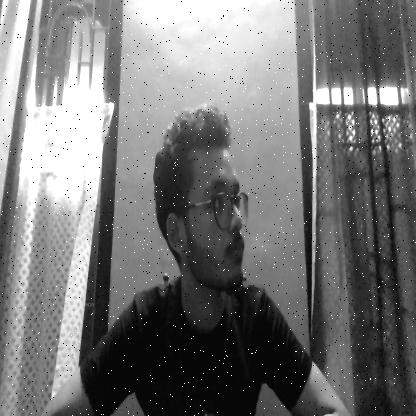Distracted: (159, 107, 246, 320)
